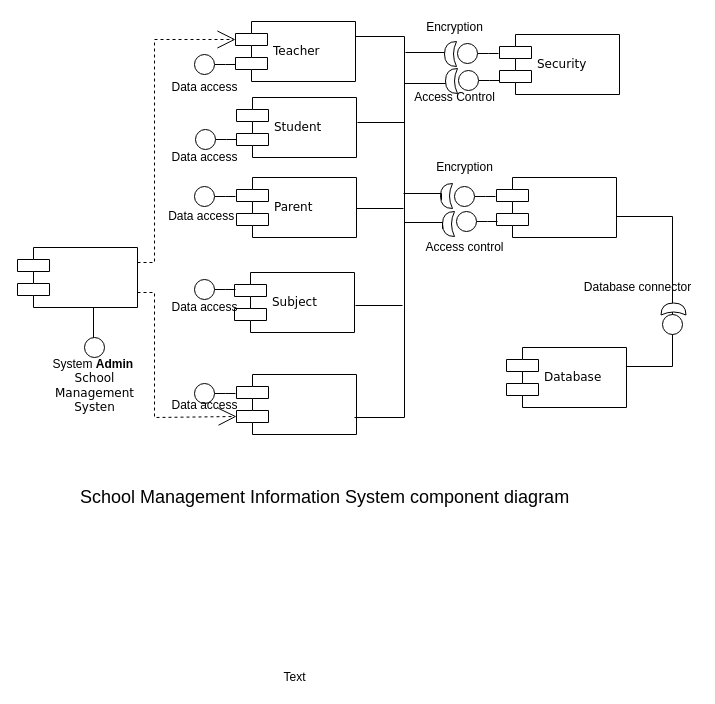
Some shapes in this 715 by 704 pixel diagram are drawn without their labels. The centre of each missing label's shape, as x and y in pixels:
"Login" belongs at [296,404].
"Persistent" belongs at [556,207].
"School Management Systen" belongs at [77,277].
